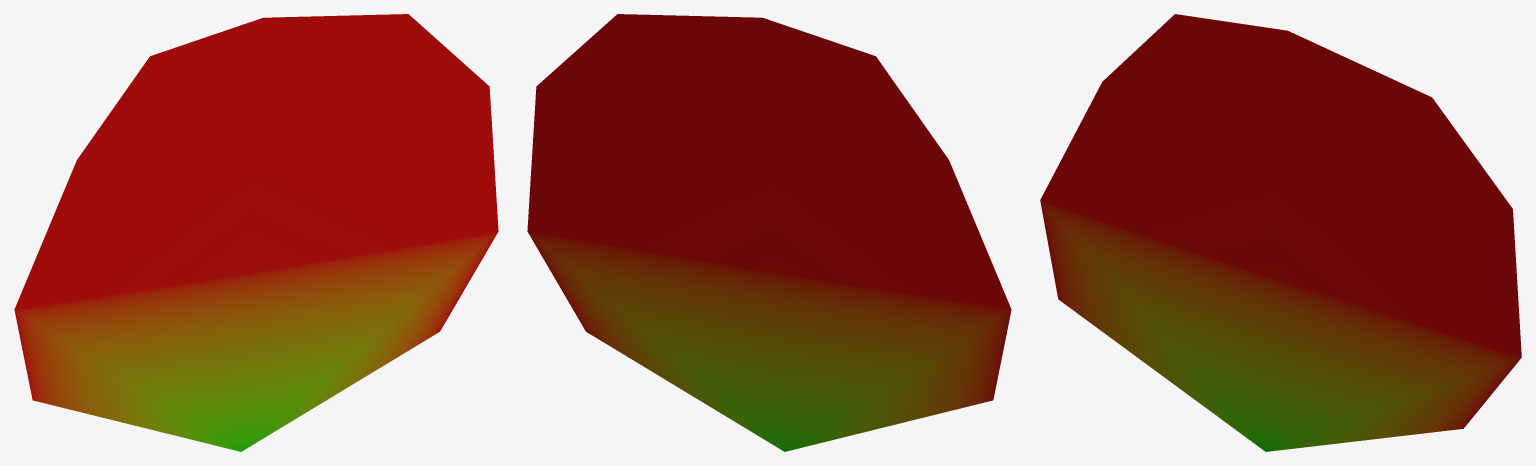
File: Black Locust_LOD4_Var10.fbx
The picture shows the model from 3 angles, left to right: view 1: azimuth 30°, elevation 25°; view 2: azimuth 150°, elevation 25°; view 3: azimuth 330°, elevation 25°; orthographic projection.
Visible parts, largest first — view 1: _ylyn_Var10_LOD4; view 2: _ylyn_Var10_LOD4; view 3: _ylyn_Var10_LOD4.
Part boxes in pixels (x1,y1,x2,y2): _ylyn_Var10_LOD4: (14, 14, 498, 451); _ylyn_Var10_LOD4: (527, 14, 1011, 451); _ylyn_Var10_LOD4: (1040, 14, 1521, 451).
Bounding box in the file's own units: 138 × 117 × 5.09e-11.
